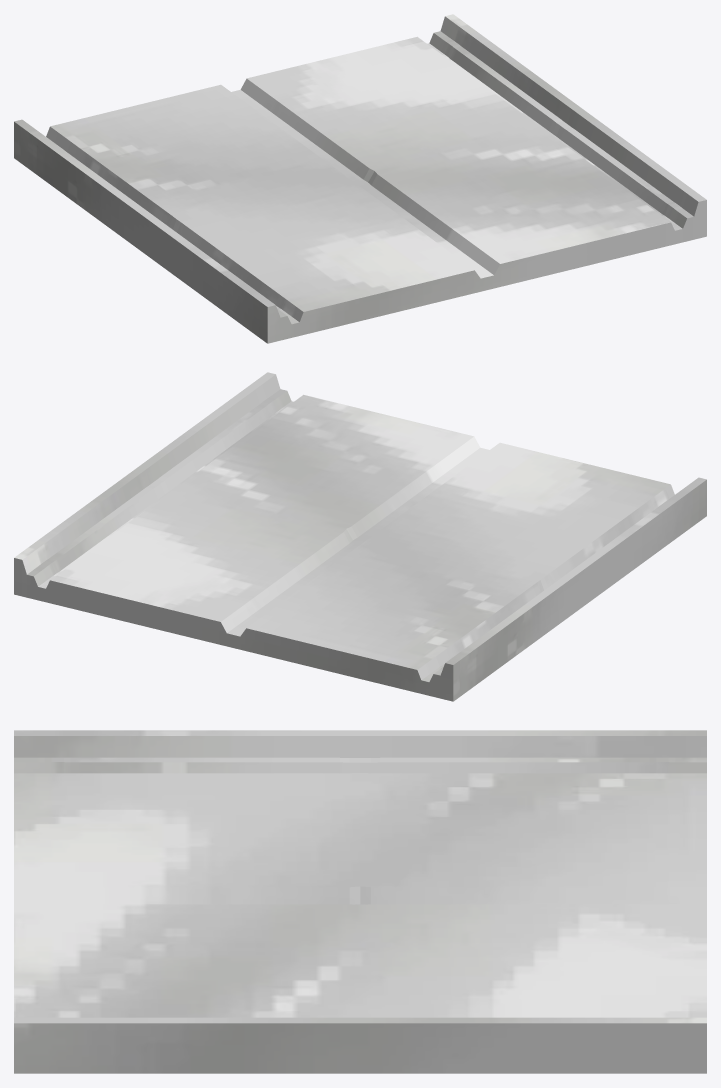
File: NarrowEntranceFloor 1.fbx
3 renders of one model, top to bottom at view 1: azimuth 30°, elevation 25°; view 2: azimuth 150°, elevation 25°; view 3: azimuth 270°, elevation 25°, orthographic. The views are drawn at different scales.
Parts seen in each view (by area): view 1: pCube240; view 2: pCube240; view 3: pCube240.
Boxes of the visible parts, left/top/right/bottom form: pCube240: left=14, top=14, right=706, bottom=343; pCube240: left=14, top=372, right=706, bottom=701; pCube240: left=14, top=730, right=706, bottom=1073.
Size of the model in its own units: 500 by 39.98 by 500.
Materials: 1 (1 with a texture image).
